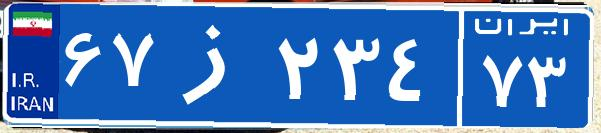2: (273, 28, 330, 110)
3: (330, 28, 385, 110), (525, 38, 570, 115)
4: (385, 28, 445, 110)
6: (57, 26, 110, 107)
7: (475, 38, 525, 113), (110, 28, 158, 105)
ز: (158, 15, 273, 115)
